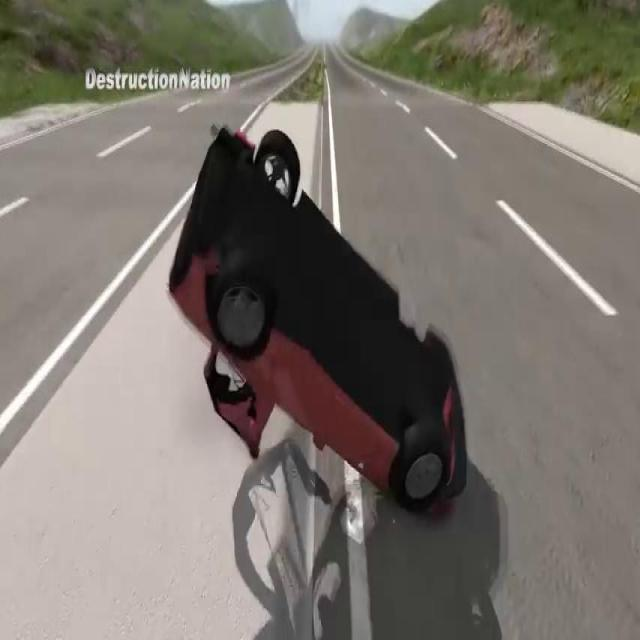severe: (163, 116, 468, 523)
